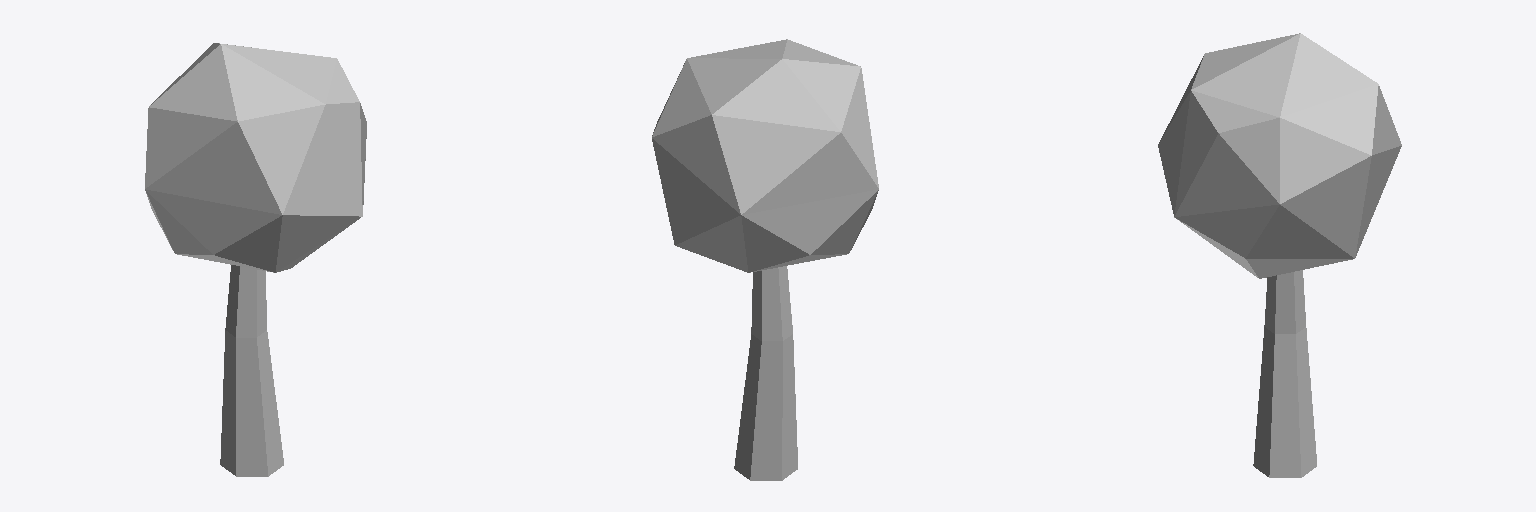
Rendered from tree1.obj.
3 views of the same model, side by side, from view 1: azimuth 30°, elevation 25°; view 2: azimuth 150°, elevation 25°; view 3: azimuth 270°, elevation 25° (orthographic).
Size of the model in its own units: 6.38 by 11.54 by 6.06.